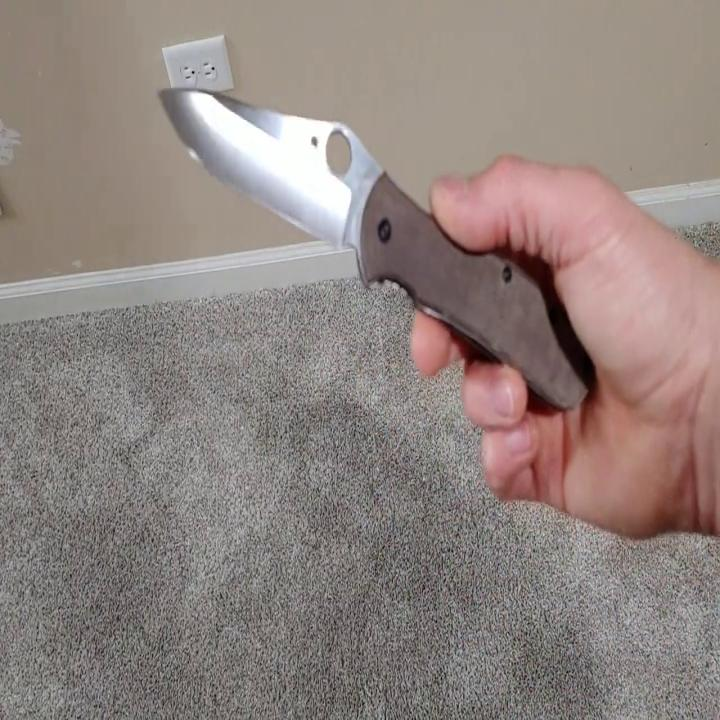knife: (153, 76, 601, 416)
